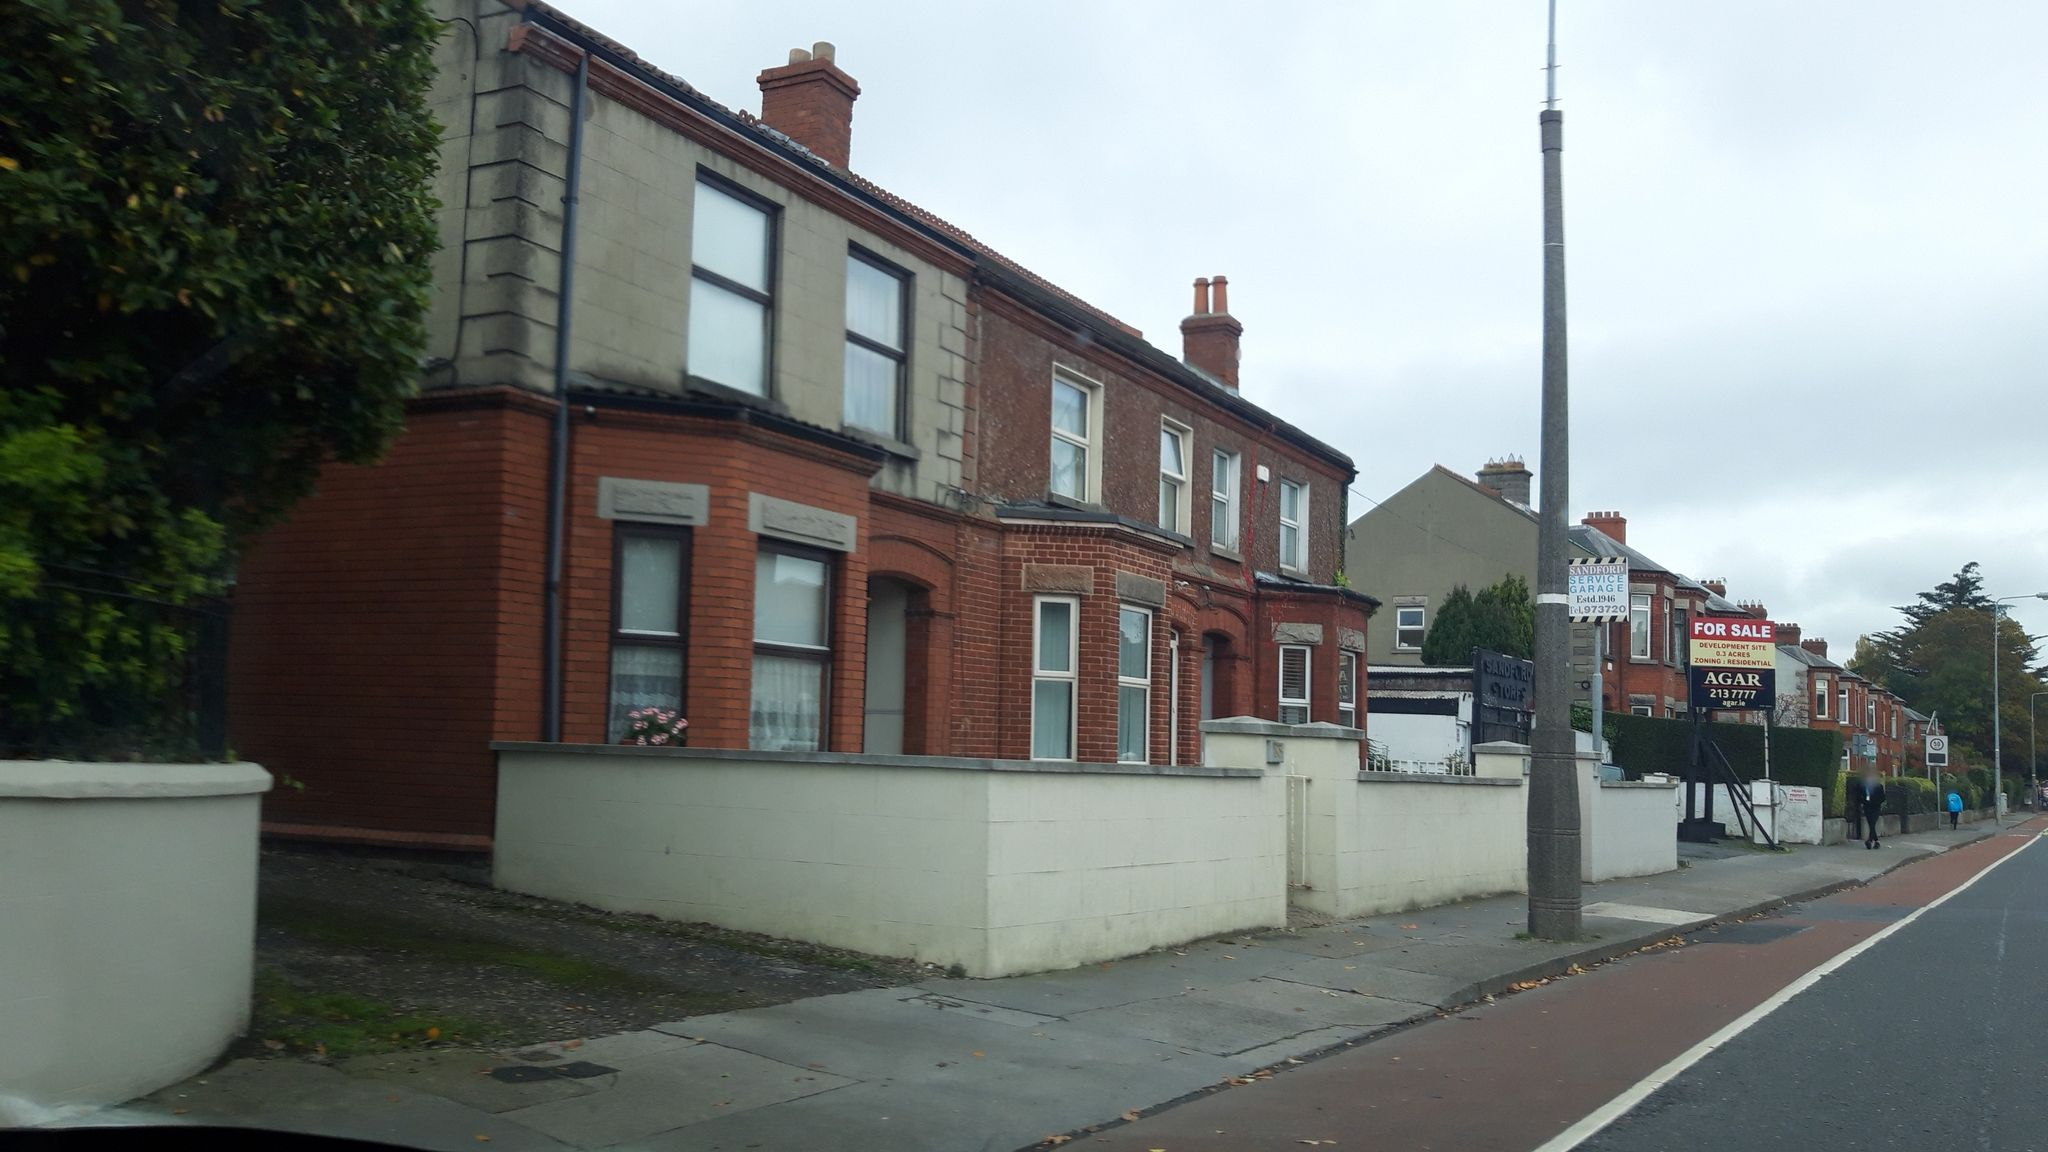property sign: (1675, 591, 1786, 720)
